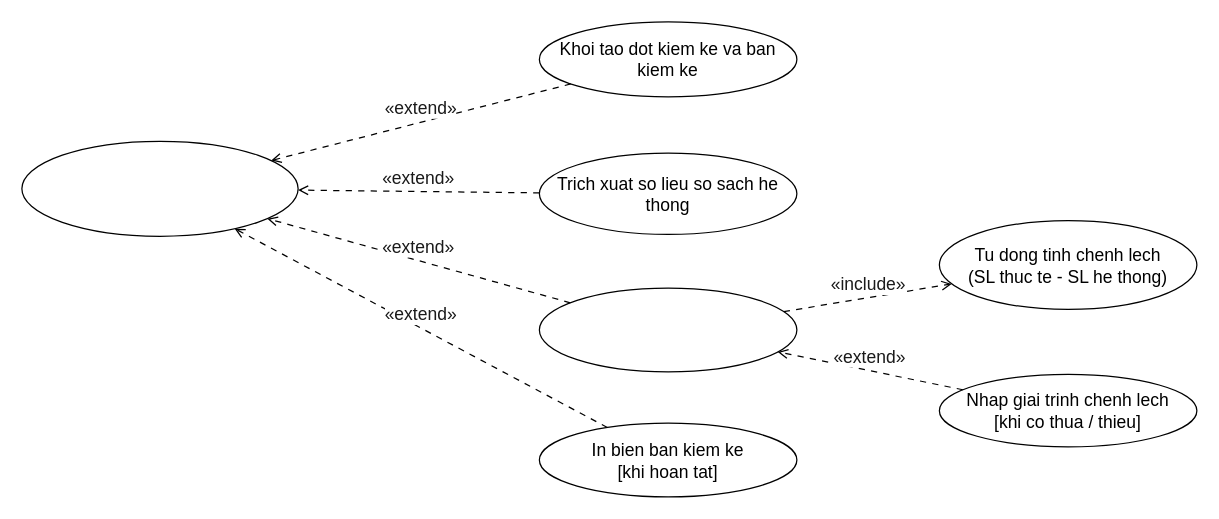
Image size: 1219x519. Some labels were removed from this diagram. Here are the shapes that lost their labels. From the top down, the centre of each, then its label:
At [159,188]: "Lap phieu kiem ke tai san (from Use Case View)".
At [667,329]: "Nhap so luong thuc te va tinh trang".
